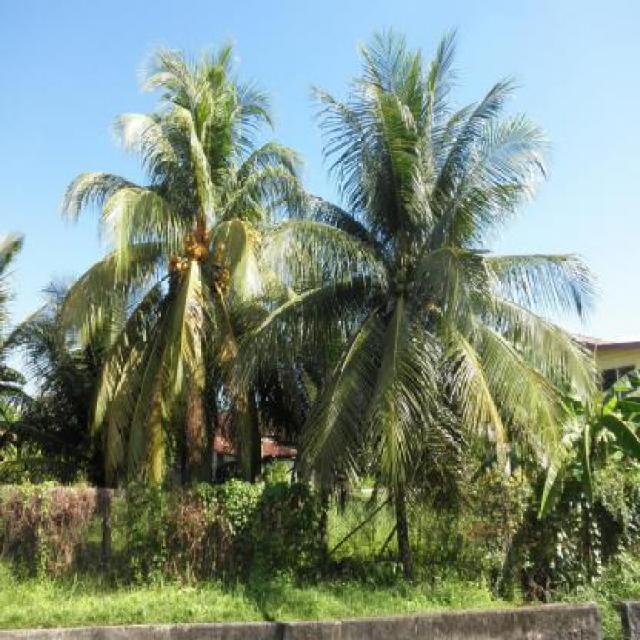Coconut: (166, 228, 212, 276), (390, 263, 416, 299), (216, 242, 232, 292)
